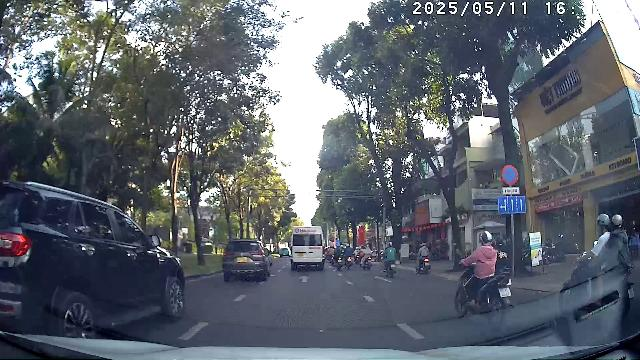131a-cam-do-xe: (501, 164, 519, 185)
